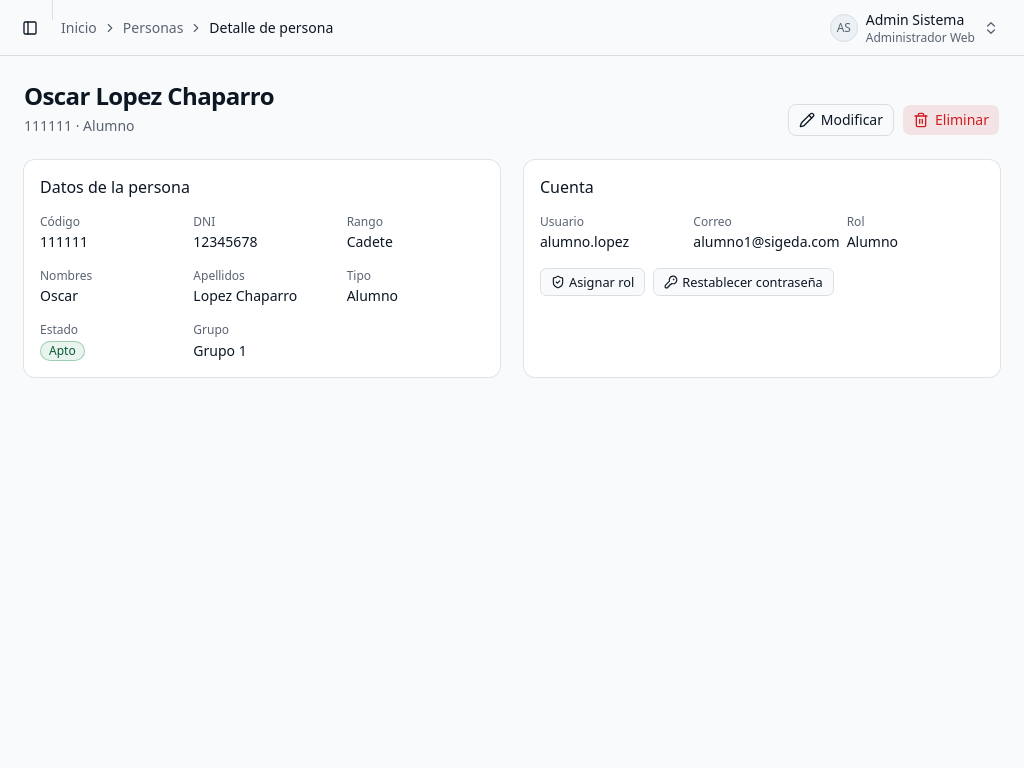
Test case: Detalle de persona › CA-PER-07 modificar solo cambia rango y tipo y muestra el mensaje del backend
Check: the heading "Cuenta" is shown, box [540, 176, 594, 198]
Click the button "Modificar": (841, 120) [788, 104, 894, 136]
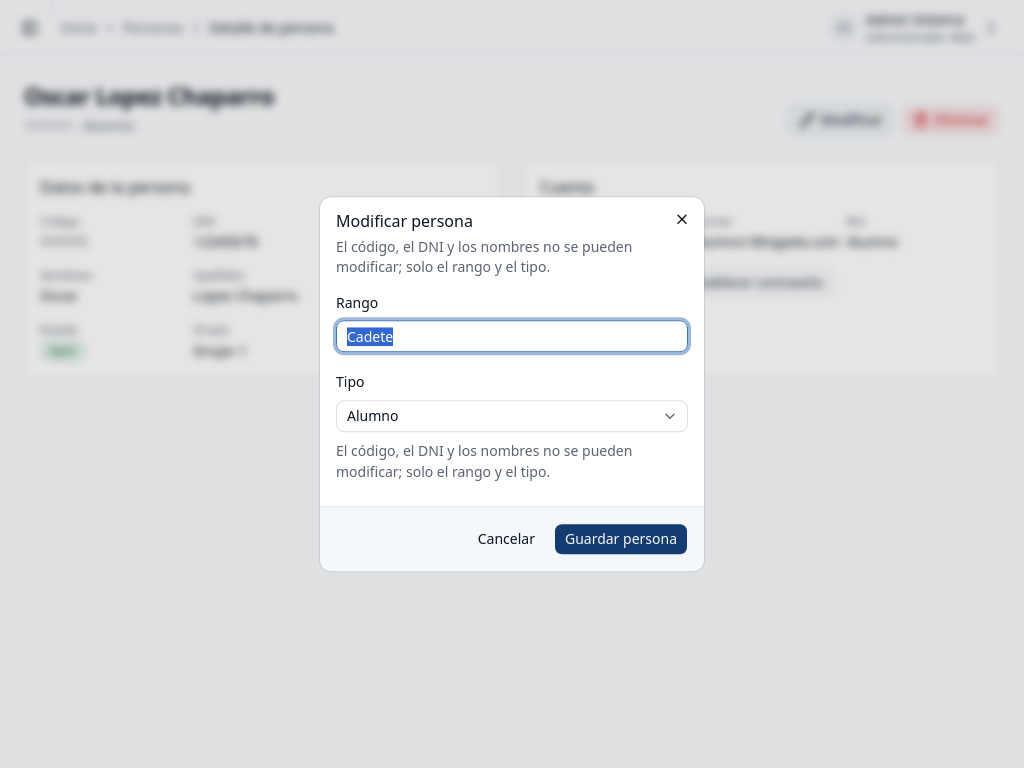
Check: the text "El código, el DNI y los nombres no se pueden modificar; solo el rango y el tipo." below "Modificar persona" is shown, box [336, 237, 632, 276]
Check: the dropdown labelled "Tipo" shows "Alumno", box [336, 400, 688, 432]
Replace the text in the field labelled "Rango" with "Teniente": (512, 336) [336, 320, 688, 352]
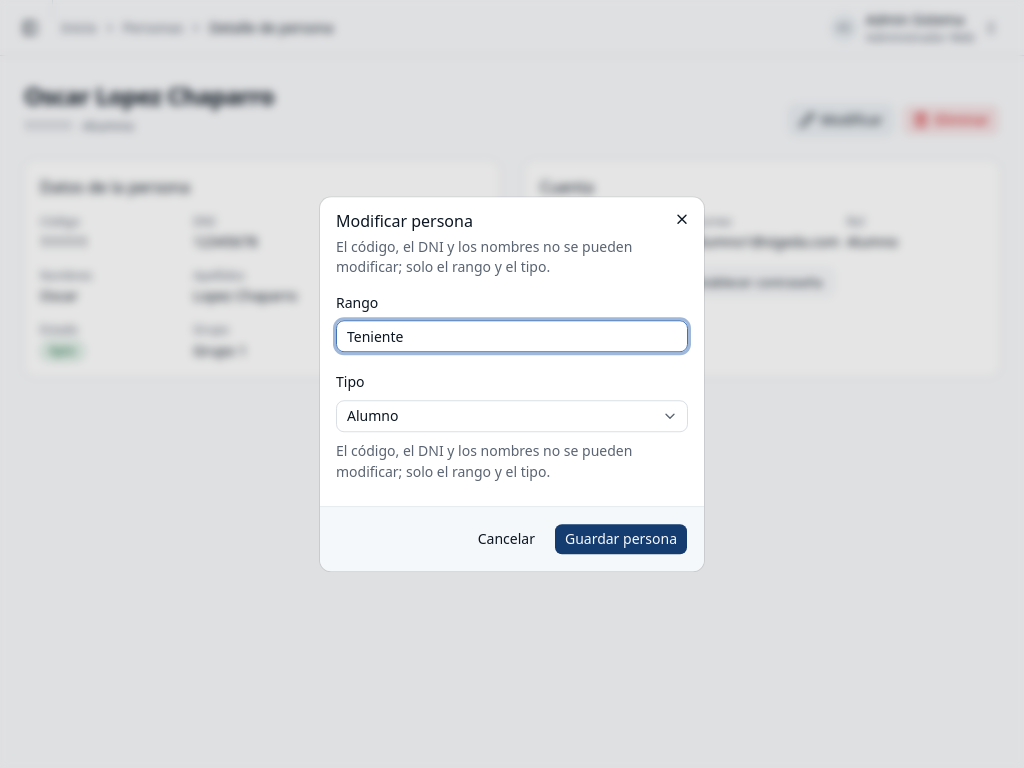
Click the button "Guardar persona": (621, 539) [554, 523, 688, 555]
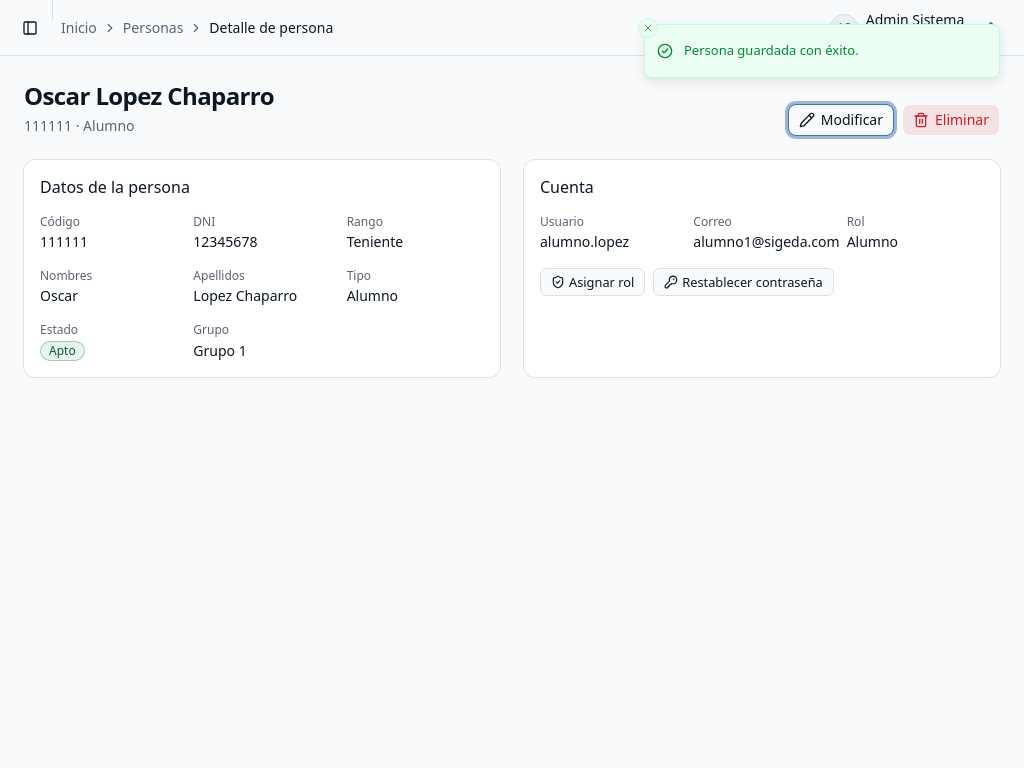
Check: the text "Persona guardada con éxito." is shown, box [684, 41, 859, 60]
Check: the text "Teniente" is shown, box [347, 232, 403, 251]
